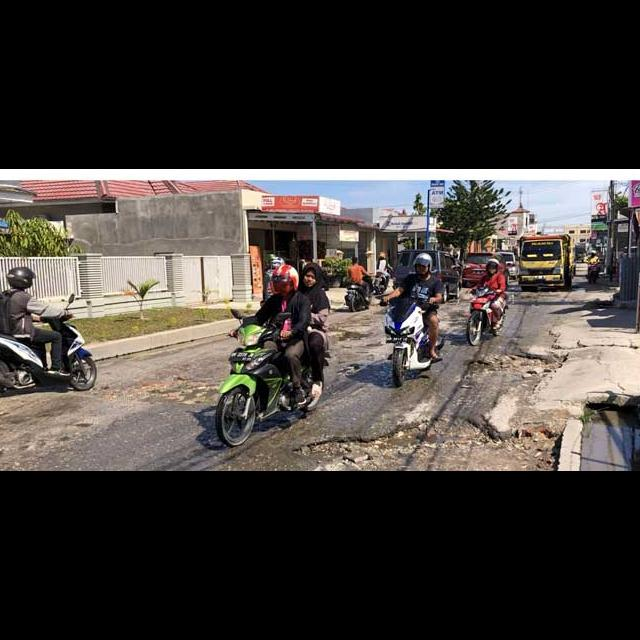lubang_kecil: (120, 375, 212, 412)
